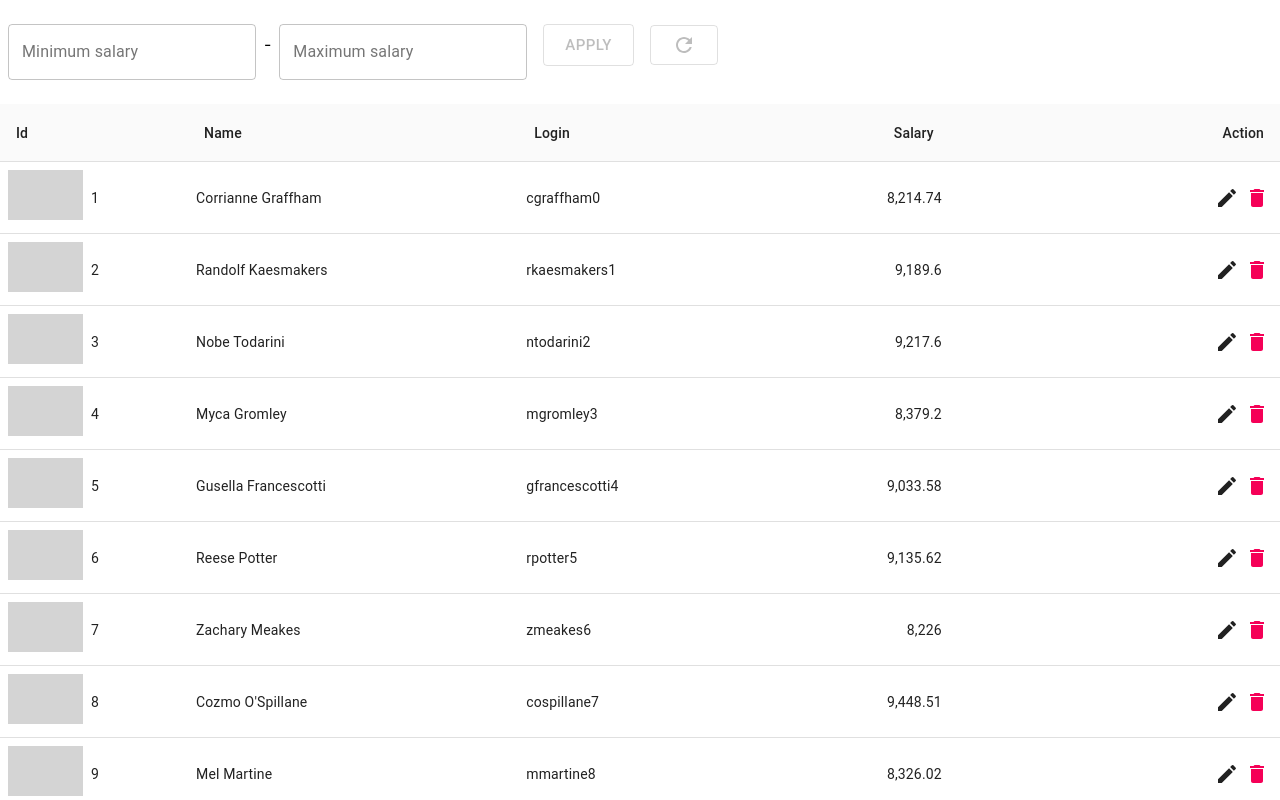
EmployeesList sorting function test
What coordinates should you click on to do the following:
click the button "Id"
I would click on:
 (22, 133)
Its box is [16, 125, 28, 141].
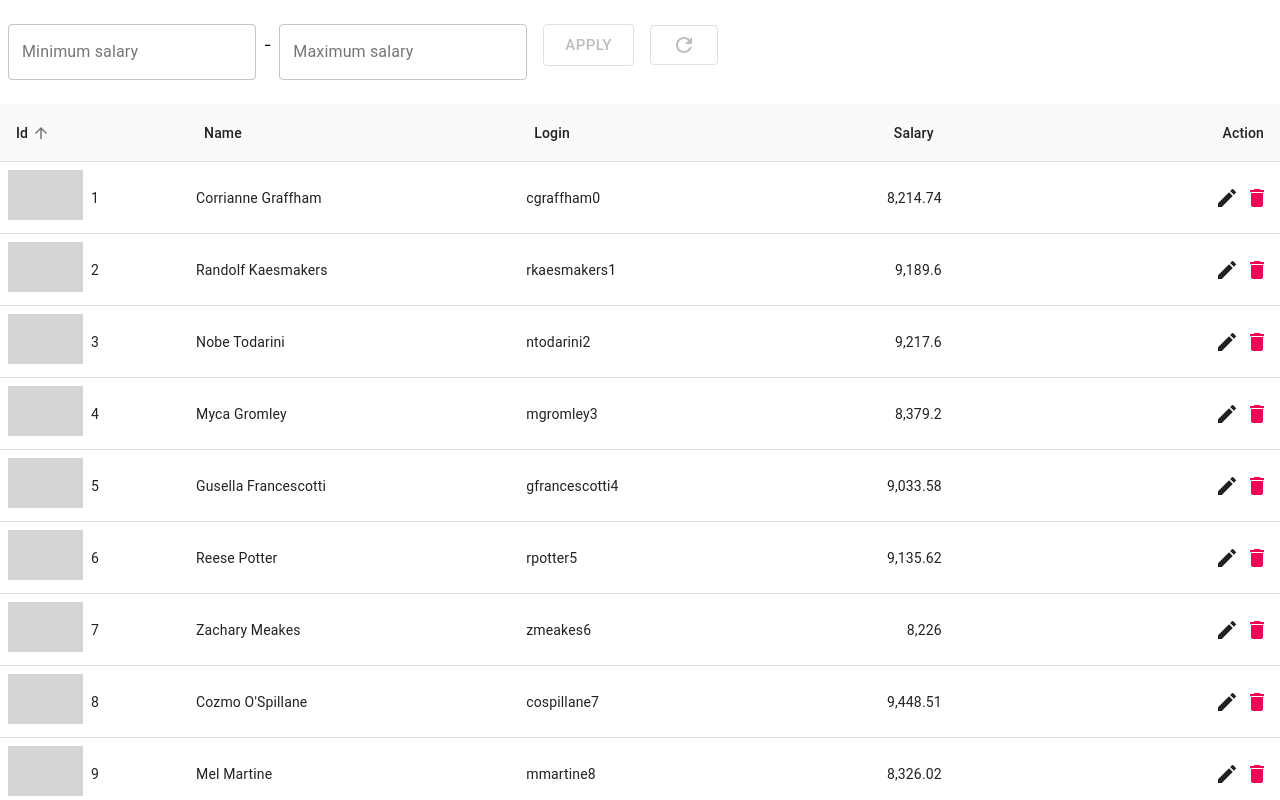
Check: the text "sorted ascending" is shown, box [16, 109, 82, 157]
What coordinates should you click on to do the following:
click the button "Id sorted ascending"
I would click on:
 (35, 133)
Its box is [16, 121, 54, 145].
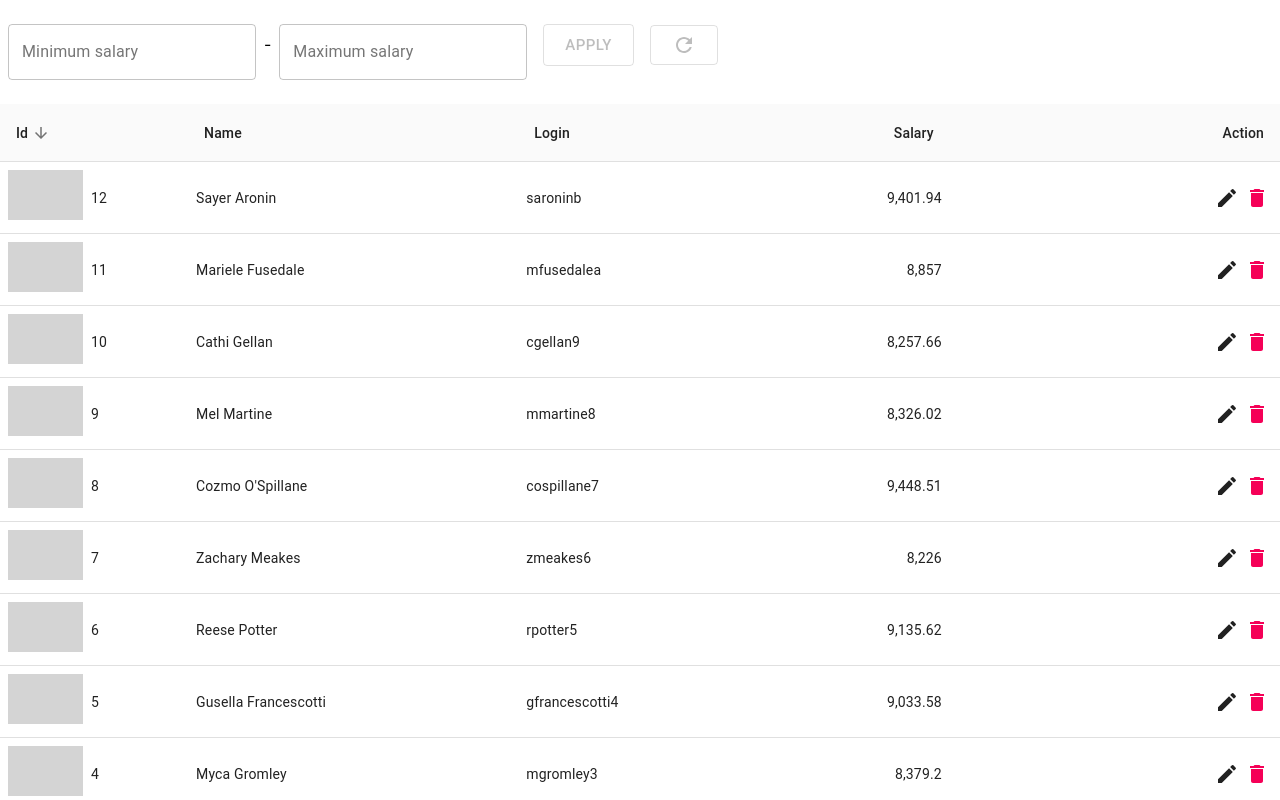
Check: the text "sorted descending" is shown, box [16, 109, 90, 157]
What coordinates should you click on to do the following:
click the button "Name"
I would click on:
 (223, 133)
Its box is [204, 125, 242, 141].
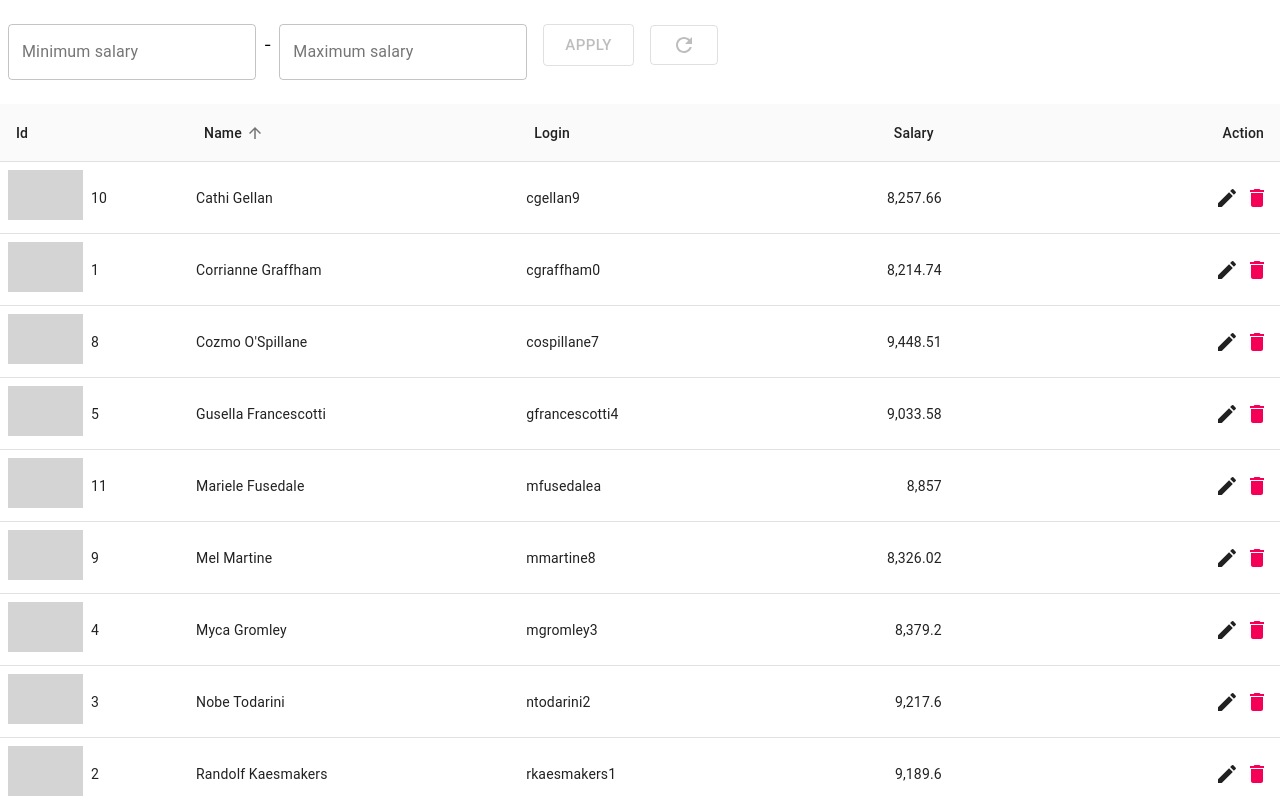
Check: the text "sorted ascending" is shown, box [204, 109, 270, 157]
